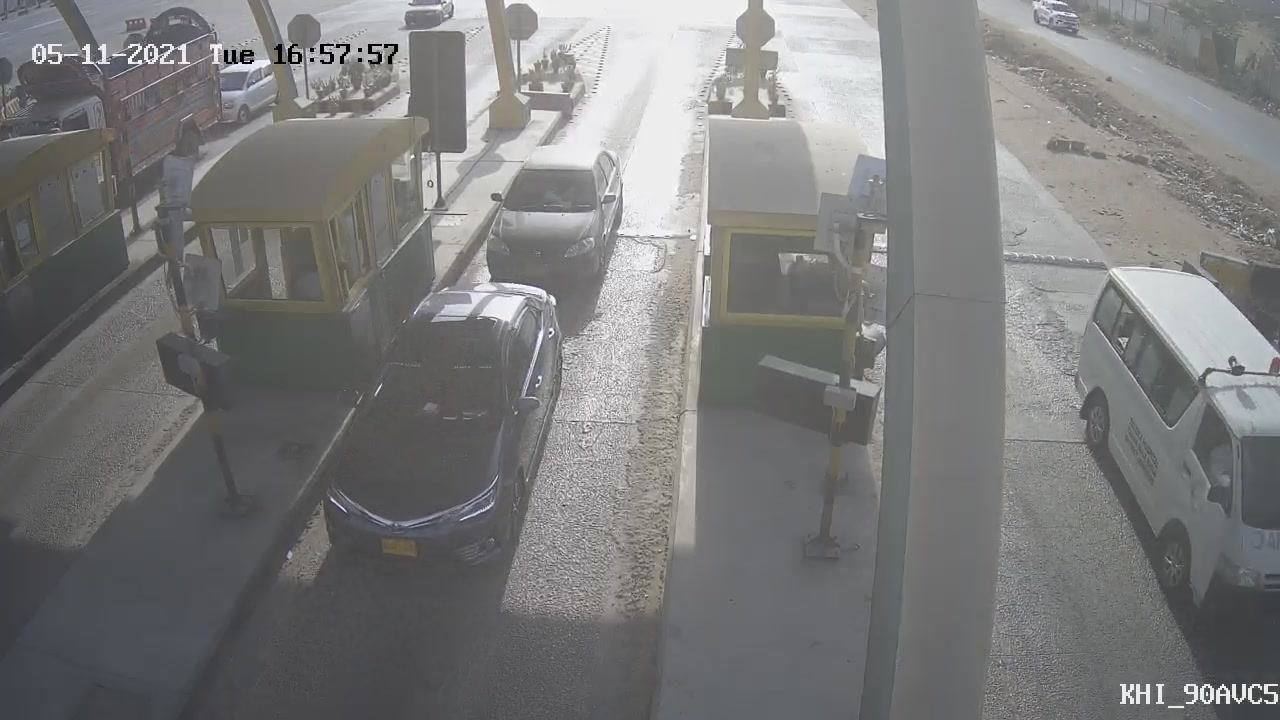F1: (295, 262, 585, 600), (461, 129, 642, 308)
